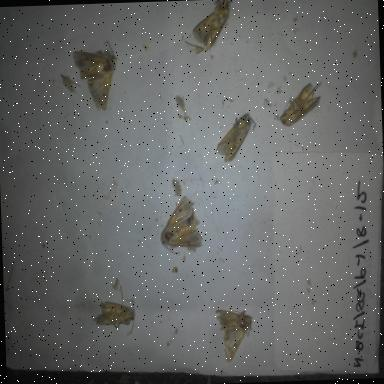abw: (69, 42, 121, 116), (156, 190, 206, 260), (212, 304, 261, 366), (274, 76, 326, 134), (185, 0, 239, 55), (209, 106, 254, 170), (87, 292, 141, 341)
